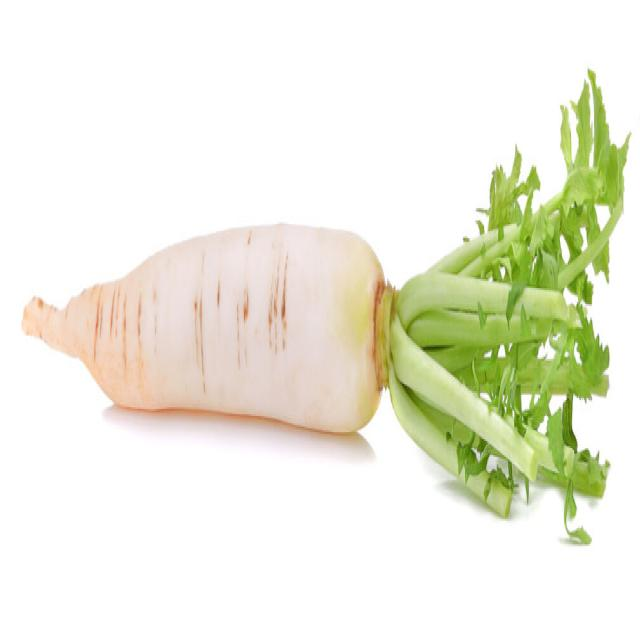Coriander Leaves: (387, 64, 631, 542)
Radish: (21, 66, 630, 540), (21, 218, 390, 436), (387, 285, 610, 503)
